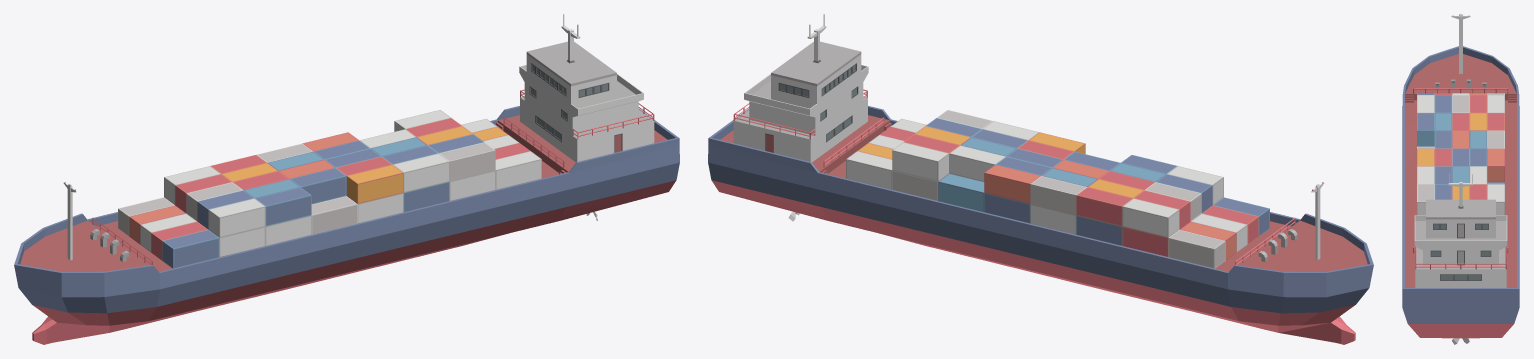
The model's file is ship-cargo.glb.
3 renders of one model, left to right at view 1: azimuth 30°, elevation 25°; view 2: azimuth 150°, elevation 25°; view 3: azimuth 270°, elevation 25°, orthographic. The views are drawn at different scales.
Parts seen in each view (by area): view 1: ship_cargo, ship_cargos; view 2: ship_cargo, ship_cargos; view 3: ship_cargo, ship_cargos.
Boxes of the visible parts, x1,y1,x2,y2 form: ship_cargo: [14, 14, 679, 344]; ship_cargos: [118, 110, 541, 268]; ship_cargo: [708, 14, 1373, 344]; ship_cargos: [846, 110, 1269, 268]; ship_cargo: [1402, 14, 1519, 344]; ship_cargos: [1417, 93, 1504, 215].
Size of the model in its own units: 8197 by 2543 by 1664.
